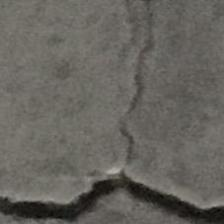Crack: (0, 145, 224, 224)
